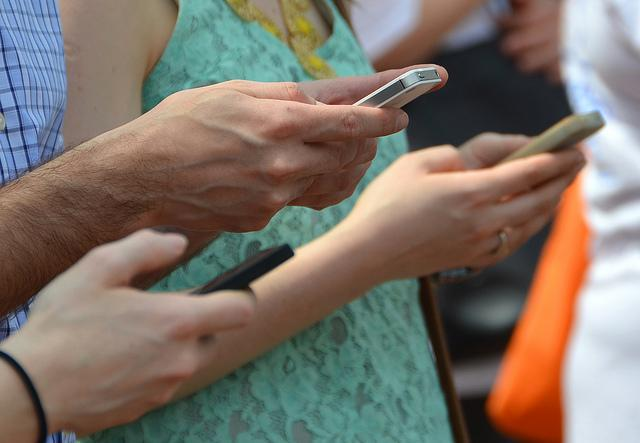hand: (106, 77, 390, 234), (32, 233, 250, 429), (361, 133, 517, 306), (446, 113, 606, 256)
phone: (334, 66, 442, 126), (511, 108, 605, 171)
